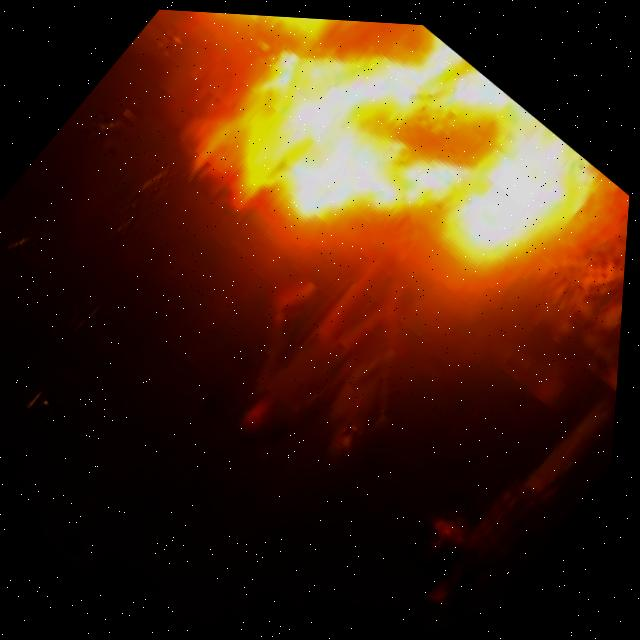Fire: (64, 4, 620, 400)
